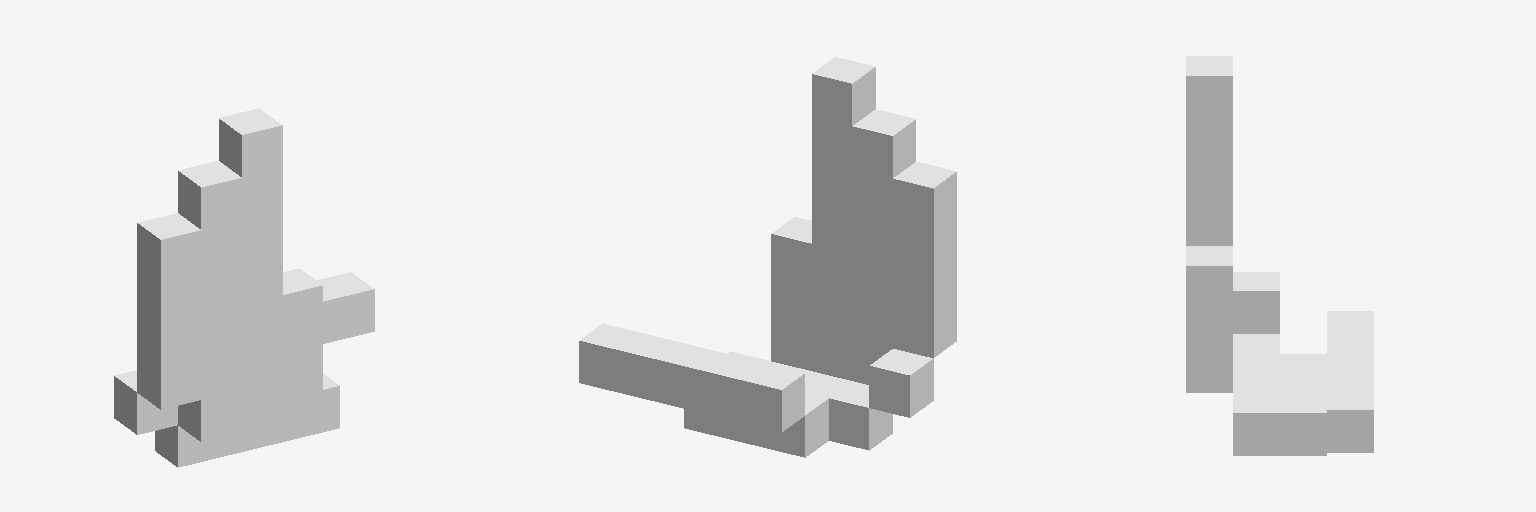
File: YellowHouseParts-75.obj
3 views of the same model, side by side, from view 1: azimuth 30°, elevation 25°; view 2: azimuth 150°, elevation 25°; view 3: azimuth 270°, elevation 25° (orthographic).
Visible parts, largest first — view 1: object 1; view 2: object 1; view 3: object 1.
Boxes of the visible parts, x1=… form: object 1: x1=114, y1=108, x2=374, y2=467; object 1: x1=579, y1=57, x2=956, y2=457; object 1: x1=1186, y1=56, x2=1373, y2=455.
Bounding box in the file's own units: 0.7 × 0.8 × 0.4.